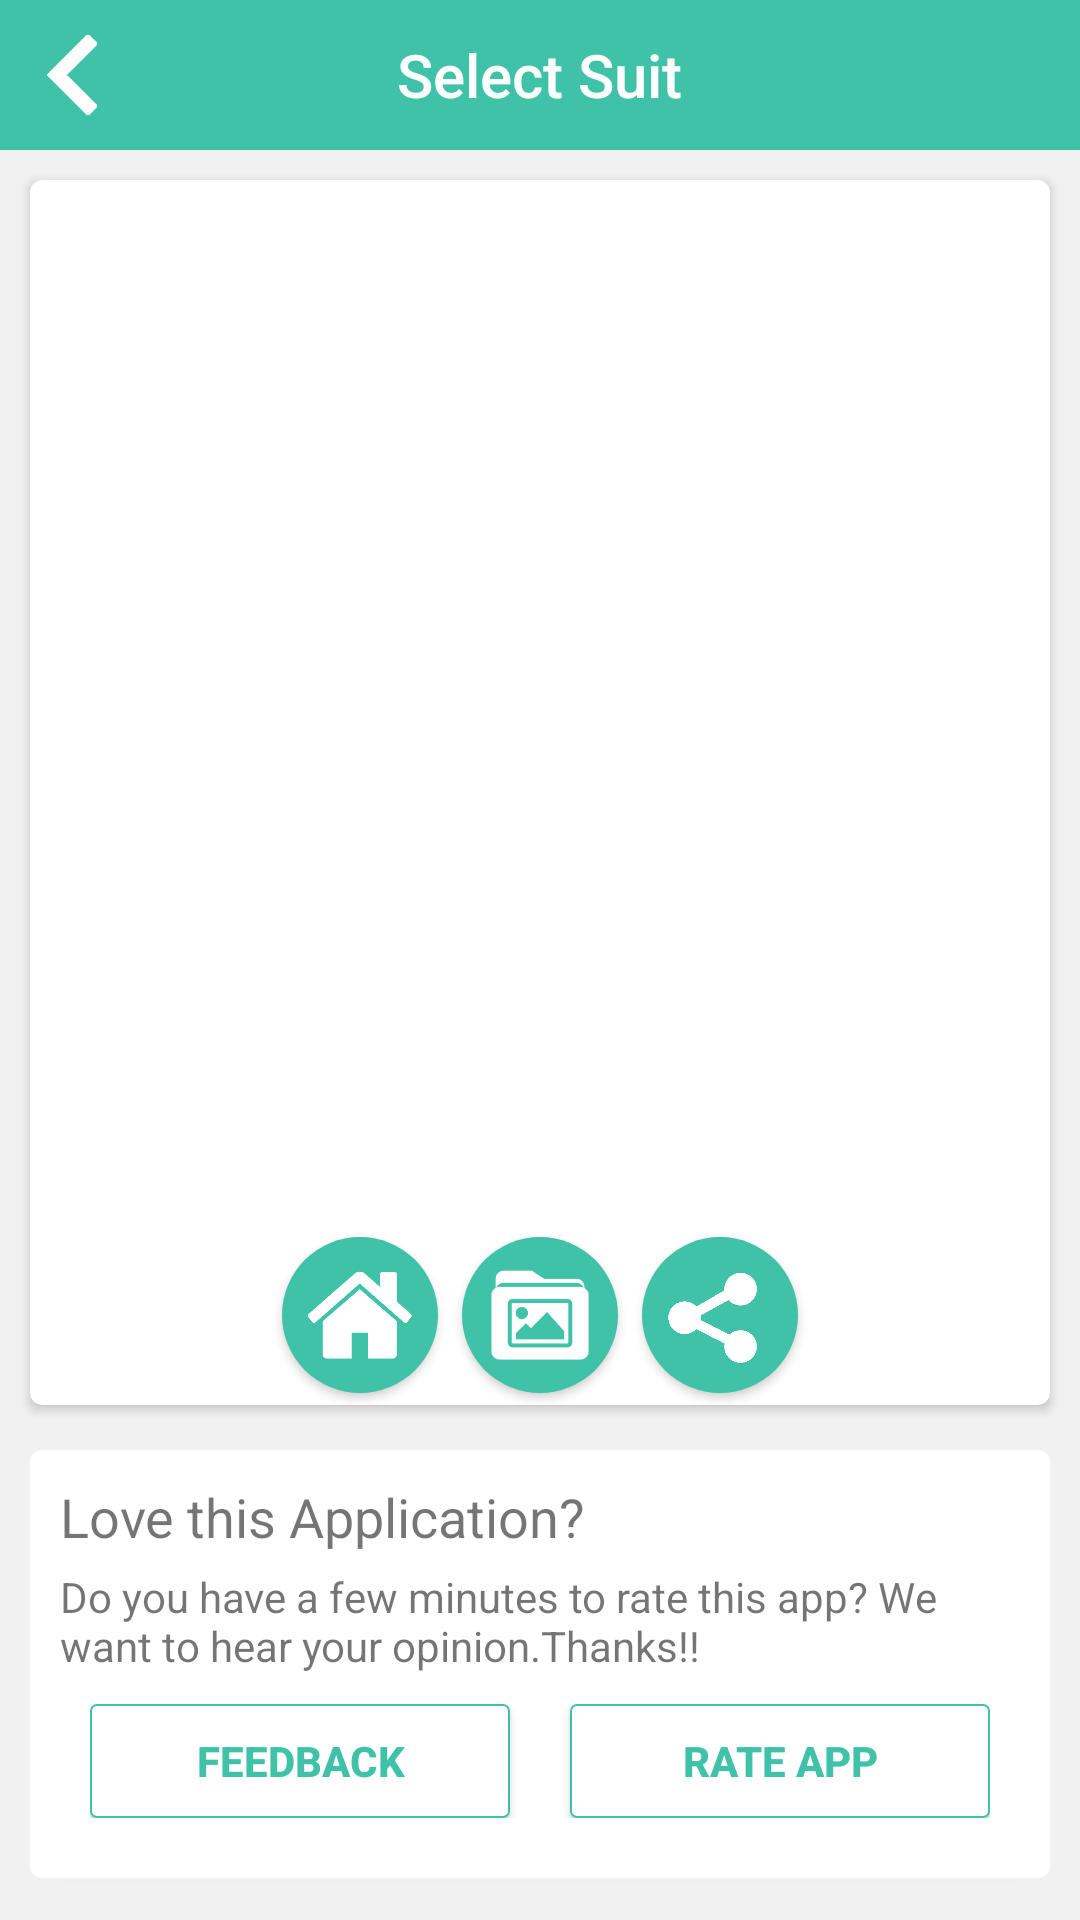

Point at icon controls on the screen. Image size 1080*1920, points as (x,y).
back: (72,75)
